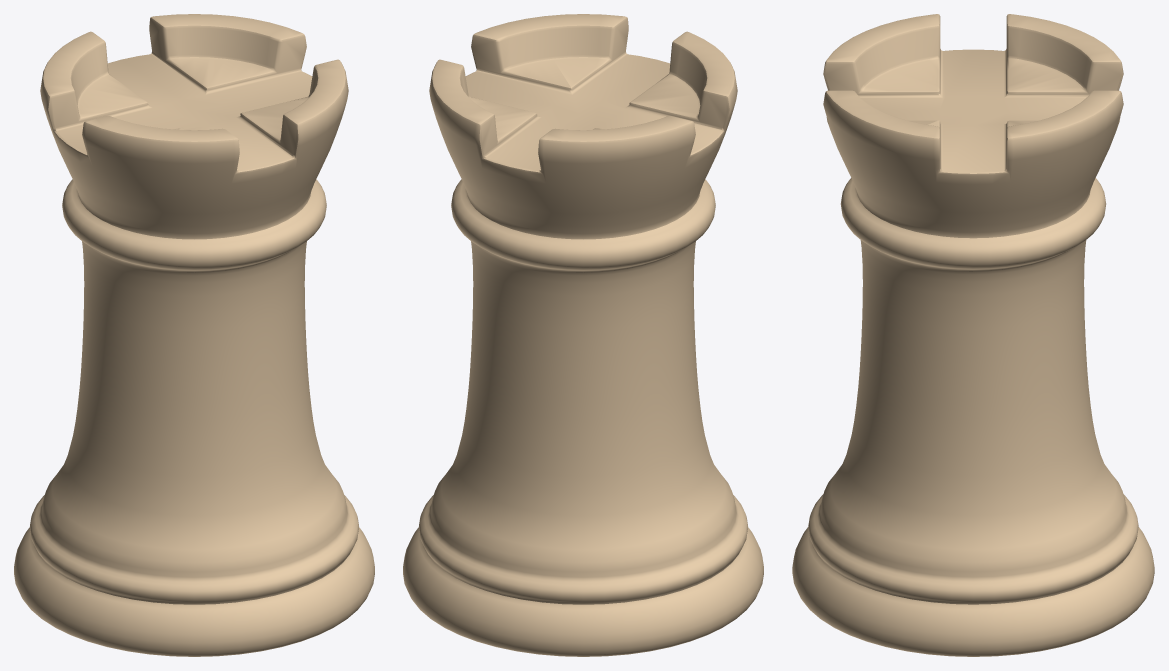
File: white-rook.glb
3 renders of one model, left to right at view 1: azimuth 30°, elevation 25°; view 2: azimuth 150°, elevation 25°; view 3: azimuth 270°, elevation 25°, orthographic.
Visible parts, largest first — view 1: white-rook.001; view 2: white-rook.001; view 3: white-rook.001.
Part boxes in pixels (<box>): white-rook.001: <box>14,14,374,656</box>; white-rook.001: <box>403,14,763,656</box>; white-rook.001: <box>792,14,1154,656</box>.
Bounding box in the file's own units: 0.6006 × 0.93 × 0.6006.
